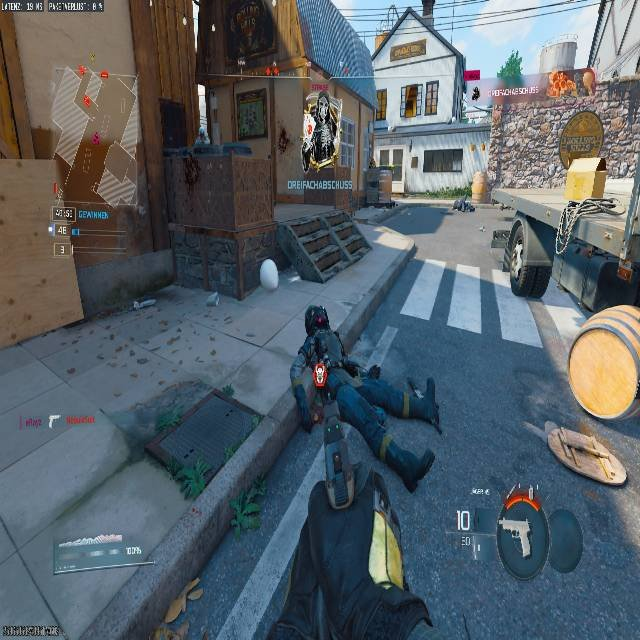player: (302, 91, 339, 172), (472, 86, 480, 100)
